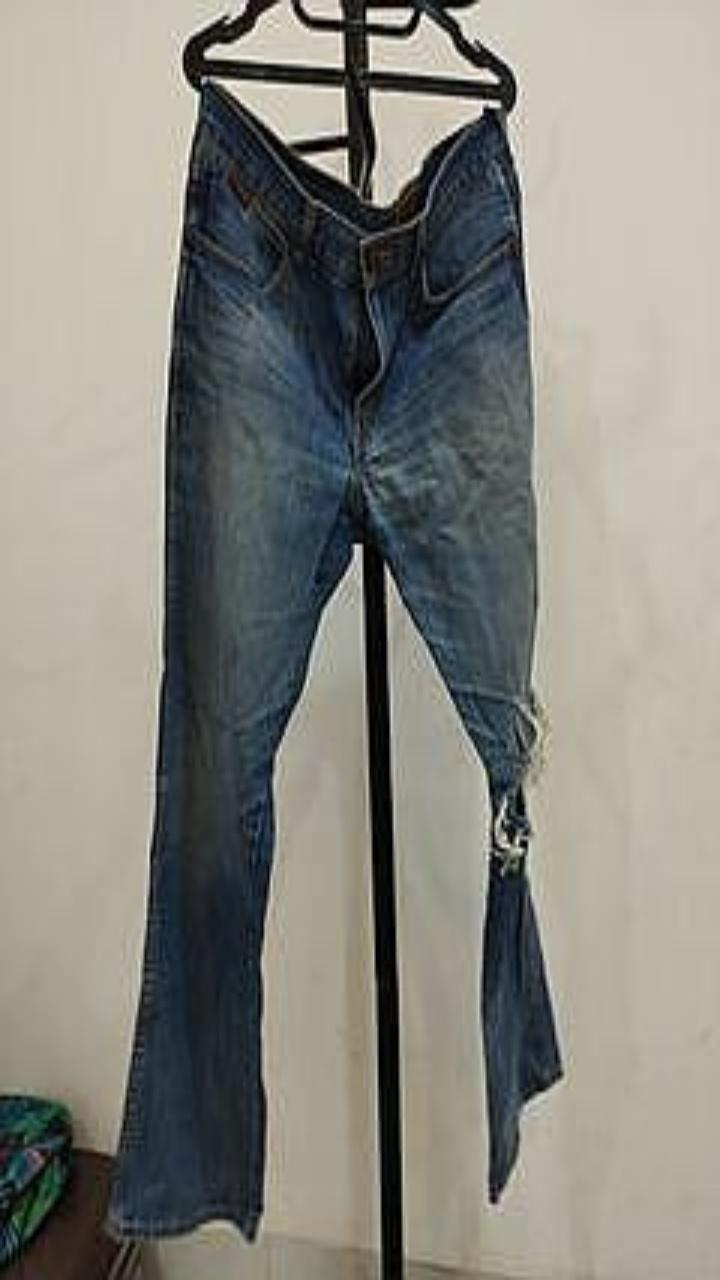Jeans: (106, 79, 562, 1240)
